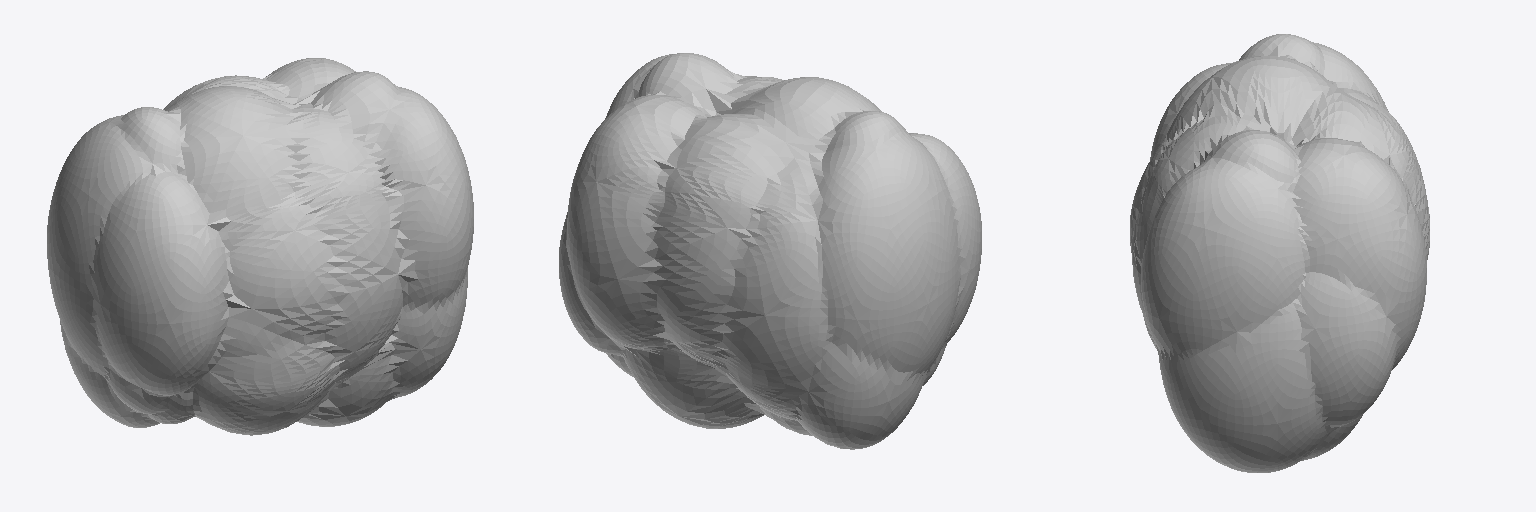
File: block.obj
The picture shows the model from 3 angles: view 1: azimuth 30°, elevation 25°; view 2: azimuth 150°, elevation 25°; view 3: azimuth 270°, elevation 25°; orthographic projection.
Parts seen in each view (by area): view 1: ICO球; view 2: ICO球; view 3: ICO球.
Boxes of the visible parts, <box> form: ICO球: <box>47,58,473,435</box>; ICO球: <box>559,53,981,449</box>; ICO球: <box>1130,34,1429,472</box>.
Bounding box in the file's own units: 3.3 × 3.01 × 2.34.